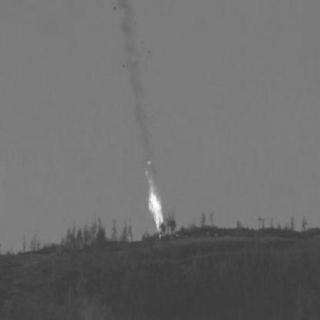Fire: (144, 182, 163, 235)
Smoke: (124, 49, 142, 118), (121, 11, 131, 39)
